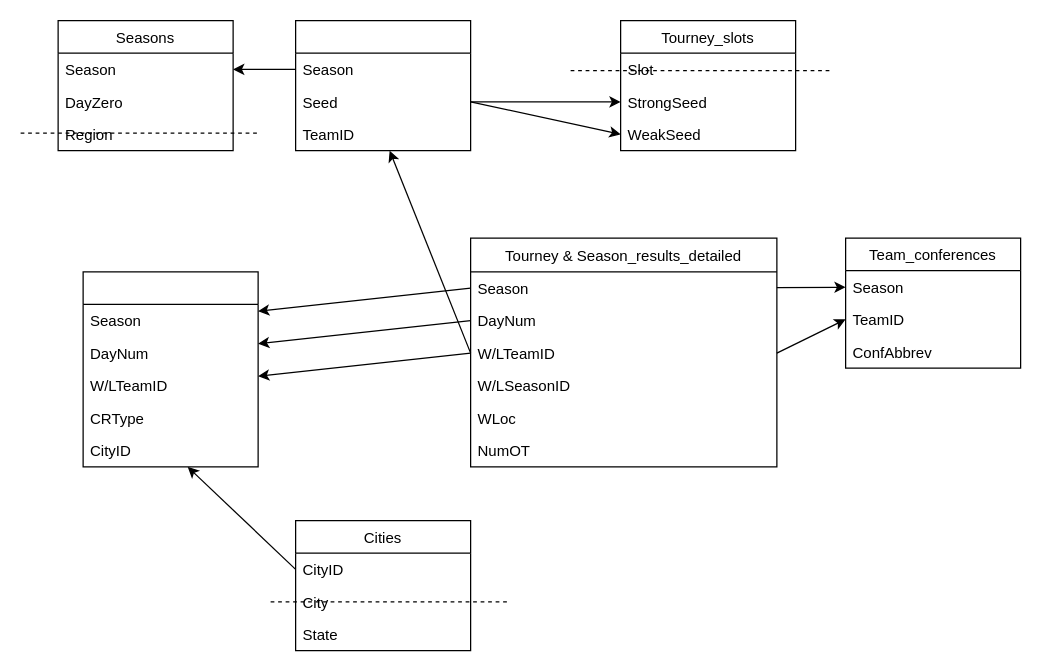
This 1041x671 diagram has some shape labels left out. Here are the shapes that lost their labels. From the top down, the box of each, then its label:
(294, 19, 471, 151): Seeds
(82, 271, 258, 467): Game Cities
